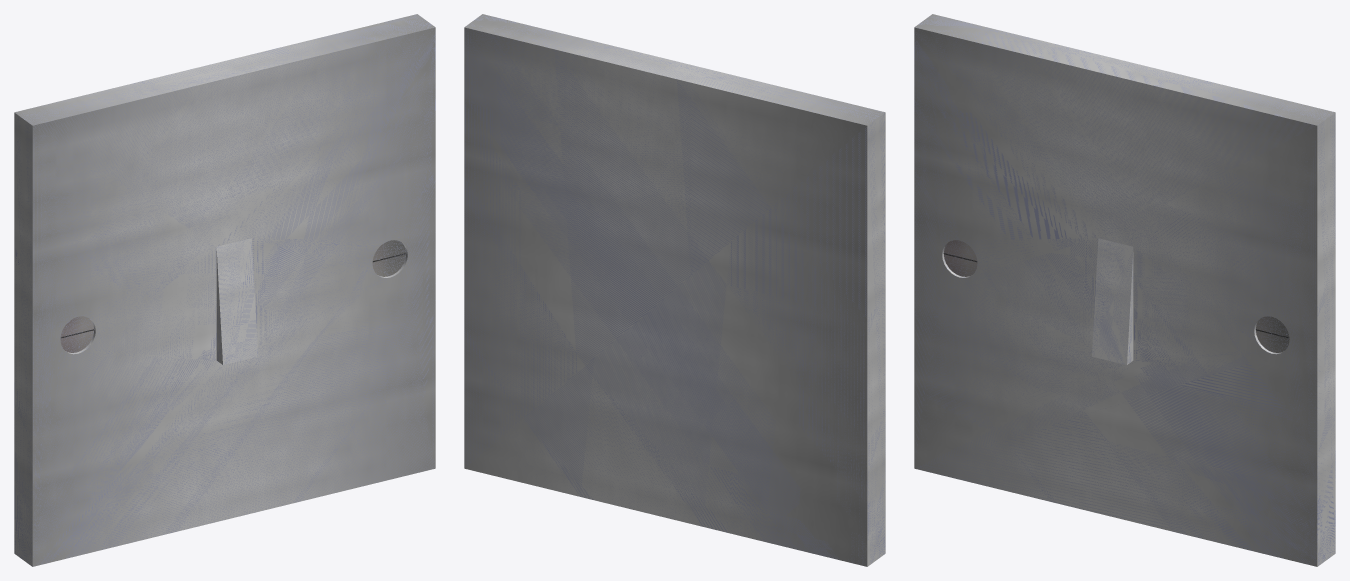
3 views of the same model, side by side, from view 1: azimuth 30°, elevation 25°; view 2: azimuth 150°, elevation 25°; view 3: azimuth 330°, elevation 25° (orthographic).
Visible parts, largest first — view 1: SketchUp (×2); view 2: SketchUp; view 3: SketchUp (×2).
Part boxes in pixels (bbox=[...]): SketchUp (×2): bbox=[14, 14, 435, 566]; SketchUp: bbox=[464, 14, 885, 566]; SketchUp (×2): bbox=[914, 14, 1335, 566].
Size of the model in its own units: 27.06 by 2.88 by 28.3.
